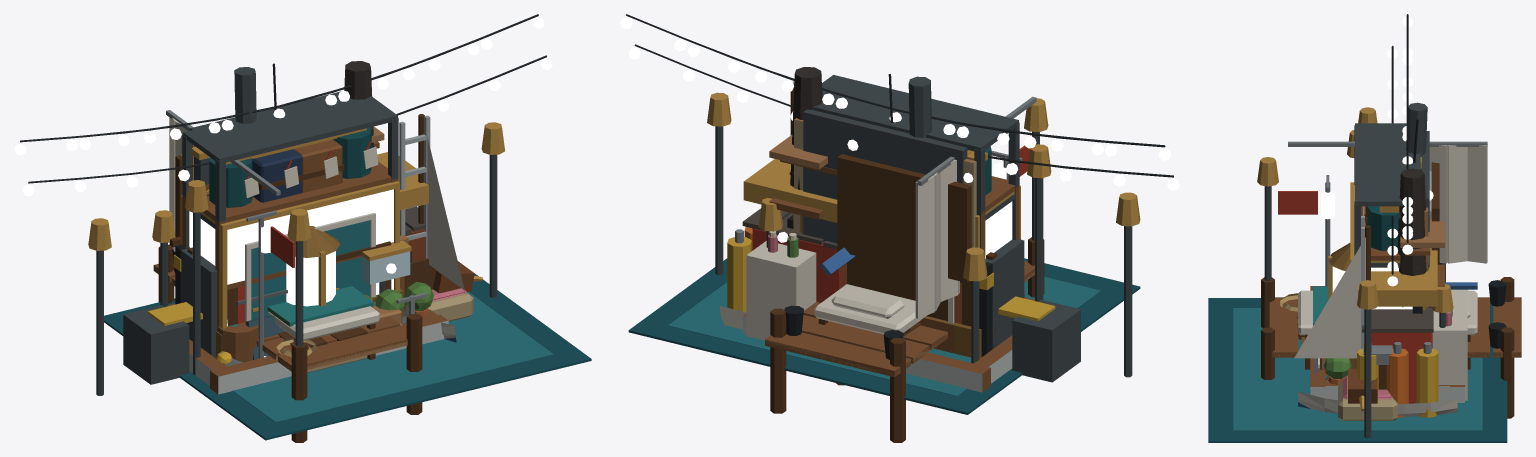
Rendered from dress_home.glb.
The picture shows the model from 3 angles, left to right: view 1: azimuth 30°, elevation 25°; view 2: azimuth 150°, elevation 25°; view 3: azimuth 270°, elevation 25°; orthographic projection. The views are drawn at different scales.
Visible parts, largest first — view 1: o_dock_3_m, o_store_3_m, o_dock_2_m, o_lights_3_m, o_aquarium_3_m, o_gym_3_m, o_clinic_3_m, o_aquarium_2_m, o_forge_3_m, o_store_2_m, o_den_3_m, o_lab_3_m (+9 smaller); view 2: o_dock_2_m, o_forge_3_m, o_clinic_3_m, o_dock_3_m, o_store_3_m, o_gym_3_m, o_ammo_3_m, o_lights_3_m, o_lights_2_m, o_den_3_m, o_lab_3_m, o_shelf_3_m (+9 smaller); view 3: o_dock_3_m, o_dock_2_m, o_clinic_3_m, o_forge_3_m, o_store_3_m, o_gym_3_m, o_lights_3_m, o_aquarium_3_m, o_lights_2_m, o_den_3_m, o_clinic_2_m, o_kitchen_3_m (+6 smaller).
Part boxes in pixels (box(x1,y1,x2,y2)): o_dock_3_m: box(104, 114, 591, 442); o_store_3_m: box(182, 94, 430, 375); o_dock_2_m: box(104, 244, 591, 442); o_lights_3_m: box(15, 14, 552, 395); o_aquarium_3_m: box(181, 181, 473, 357); o_gym_3_m: box(123, 295, 448, 394); o_clinic_3_m: box(166, 110, 433, 358); o_aquarium_2_m: box(245, 212, 376, 321); o_forge_3_m: box(169, 61, 482, 353); o_store_2_m: box(182, 161, 398, 327); o_den_3_m: box(152, 126, 411, 362); o_lab_3_m: box(180, 248, 217, 358); o_dock_2_m: box(628, 237, 1139, 442); o_forge_3_m: box(743, 67, 1024, 302); o_clinic_3_m: box(746, 96, 1036, 340); o_dock_3_m: box(630, 84, 1100, 442); o_store_3_m: box(792, 75, 1051, 301); o_gym_3_m: box(727, 227, 1080, 392); o_ammo_3_m: box(803, 109, 967, 243); o_lights_3_m: box(624, 16, 1179, 377); o_lights_2_m: box(620, 14, 1171, 275); o_den_3_m: box(758, 135, 987, 363); o_lab_3_m: box(985, 239, 1024, 348); o_shelf_3_m: box(847, 150, 972, 320); o_dock_3_m: box(1209, 157, 1521, 442); o_dock_2_m: box(1208, 277, 1521, 442); o_clinic_3_m: box(1288, 141, 1487, 400); o_forge_3_m: box(1348, 162, 1439, 411); o_store_3_m: box(1347, 123, 1420, 348); o_gym_3_m: box(1310, 342, 1464, 417); o_lights_3_m: box(1328, 14, 1413, 437); o_aquarium_3_m: box(1338, 182, 1425, 420); o_lights_2_m: box(1360, 14, 1413, 438); o_den_3_m: box(1400, 221, 1477, 327); o_clinic_2_m: box(1301, 286, 1474, 369); o_kitchen_3_m: box(1355, 102, 1430, 368).
Bounding box in the file's own units: 5.51 × 3 × 3.14.
